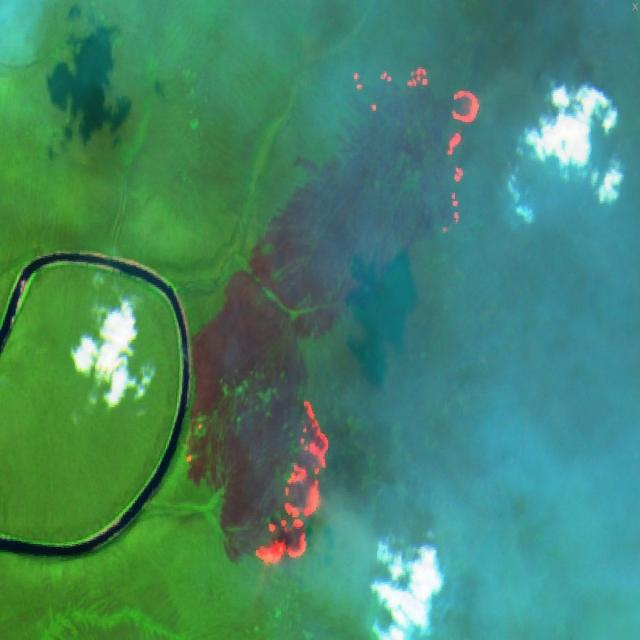fire: (350, 53, 486, 238), (251, 394, 332, 572)
